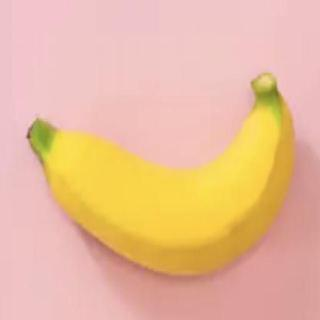banana: (25, 70, 297, 280)
